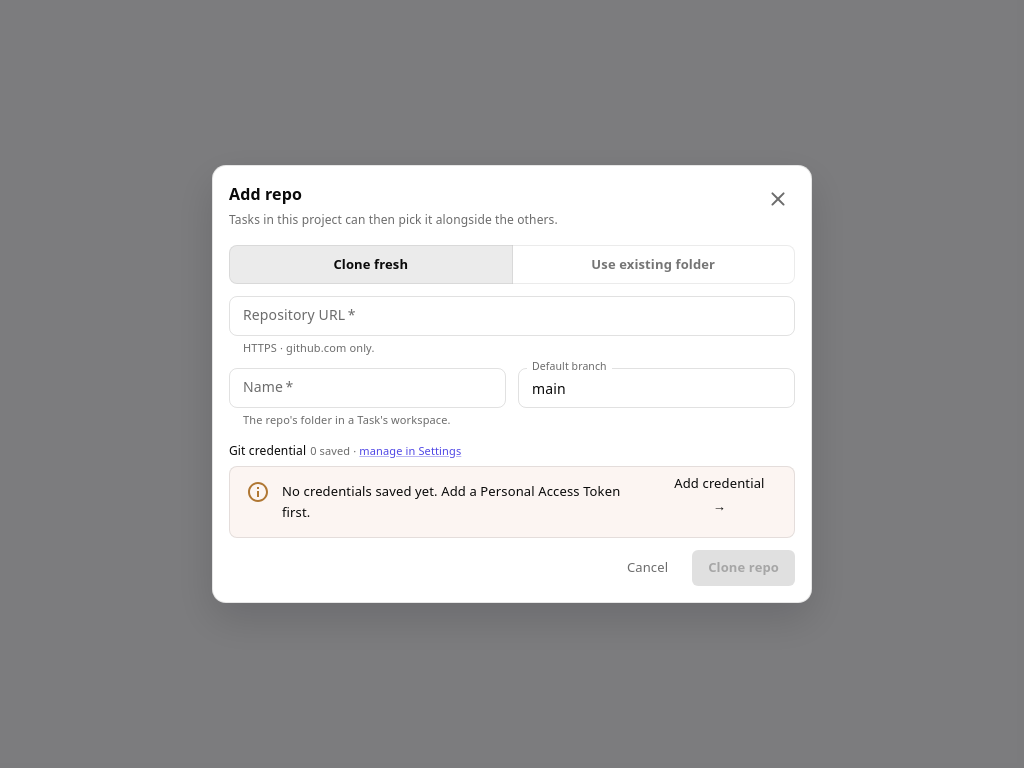
AddRepoDialog › flags an invalid name and keeps submit disabled
Type "https://github.com/acme/web.git" into the field labelled "Repository URL *" at (512, 316), box [229,296,795,336]
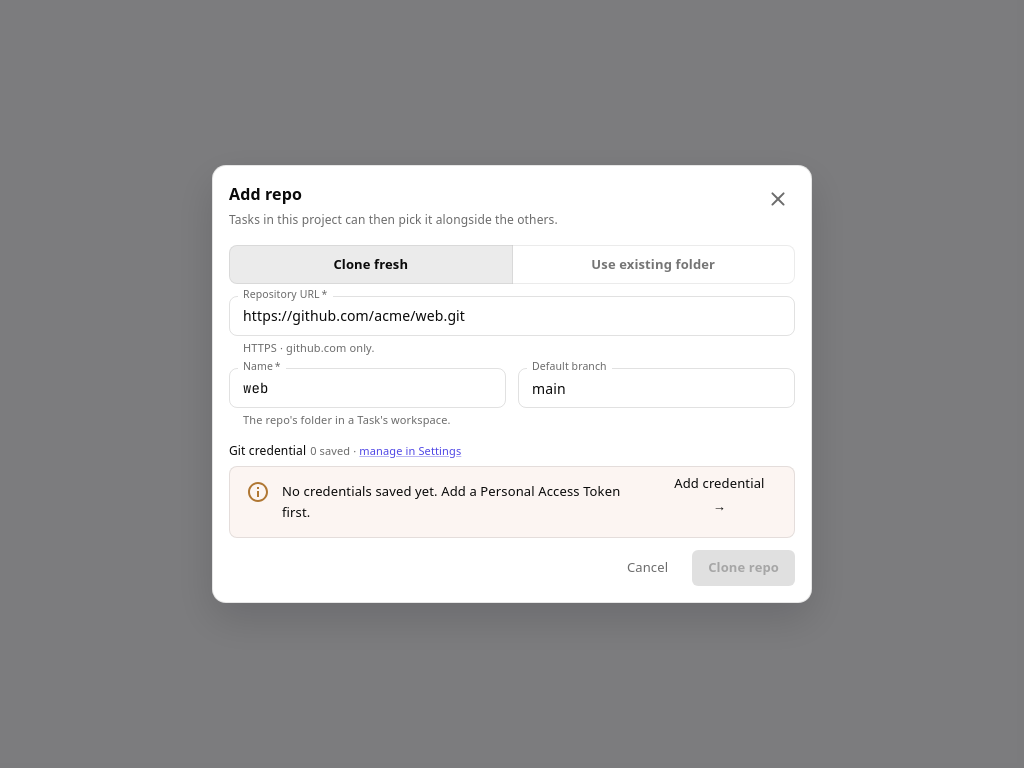
Replace the text in the field labelled "Name *" with "Web App" at (368, 388), box [229,368,506,408]
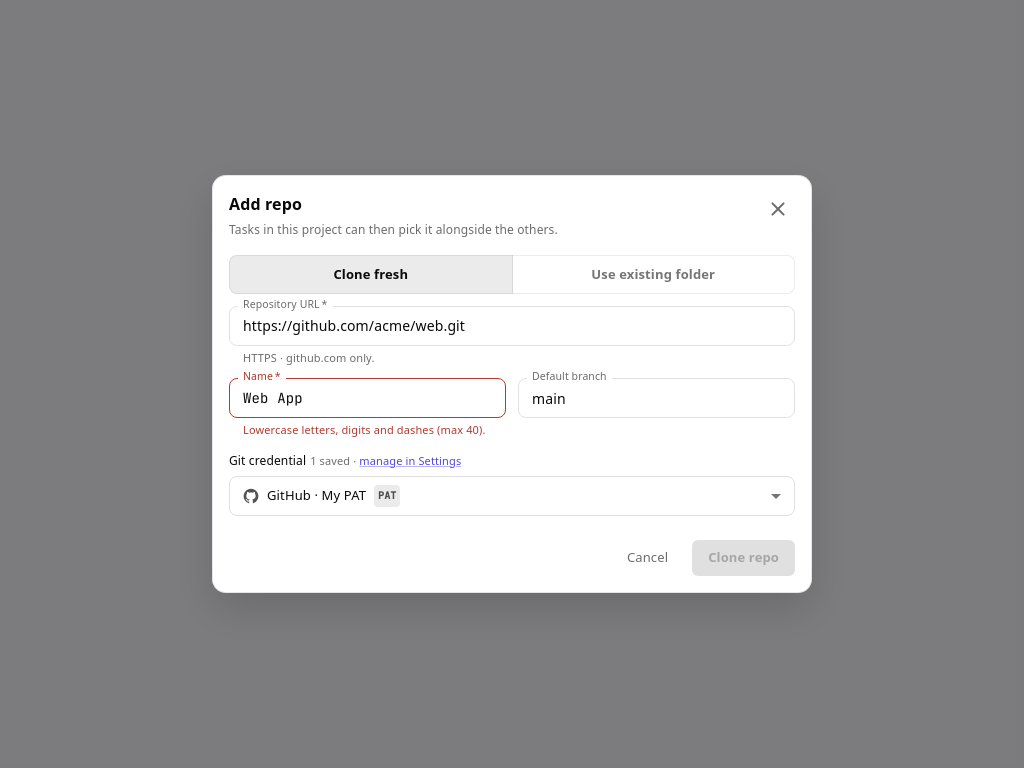
Expected: the button "Clone repo" is disabled, [692,540,795,576]
Expected: the text "Lowercase letters, digits and dashes (max 40)." is shown, [243,422,492,439]
